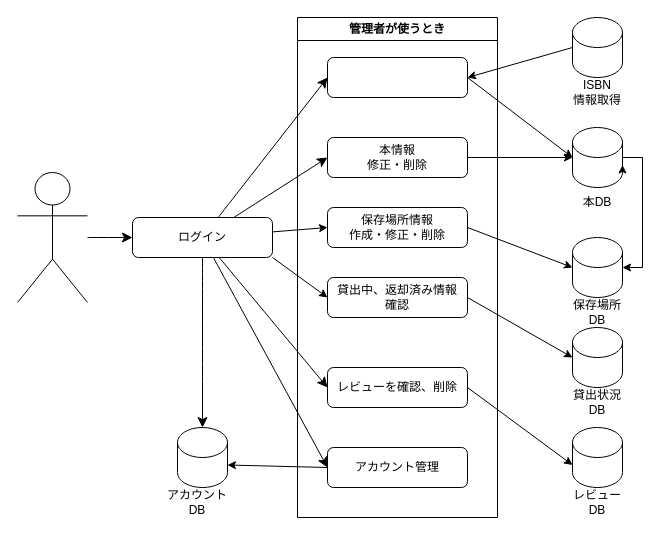
This 668x535 diagram has some shape labels left out. Each missing label, with the centre of its shape:
"本の登録" goes at (x=397, y=77).
"管理者" goes at (x=52, y=237).
